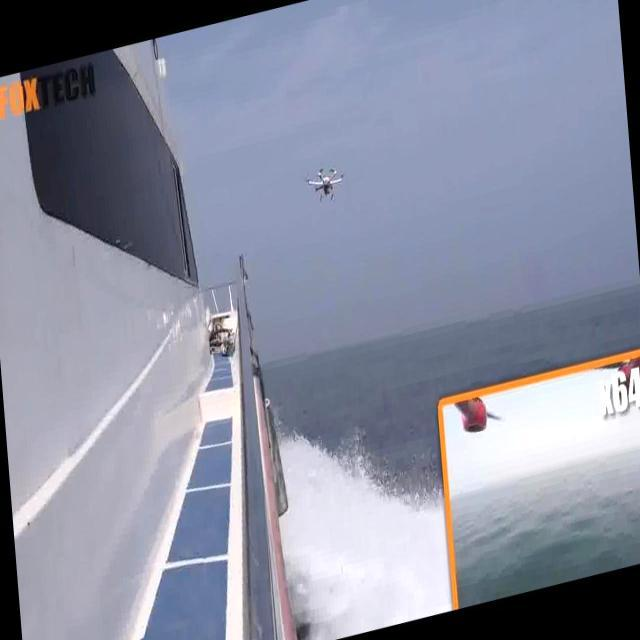drone: (300, 152, 354, 215)
